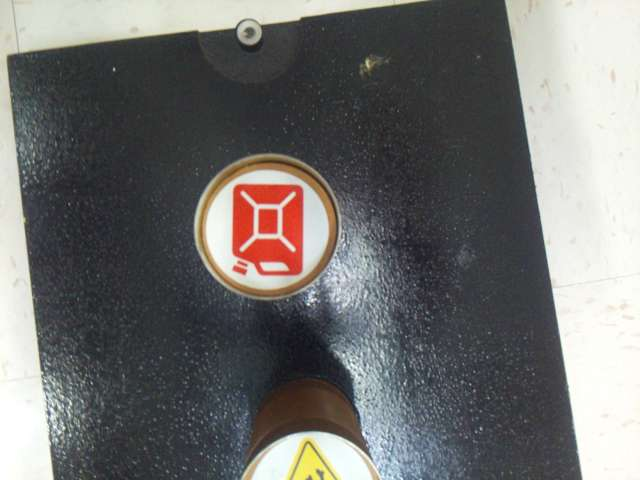gasoline: (205, 169, 329, 291)
toxic_fluid: (251, 433, 373, 479)
